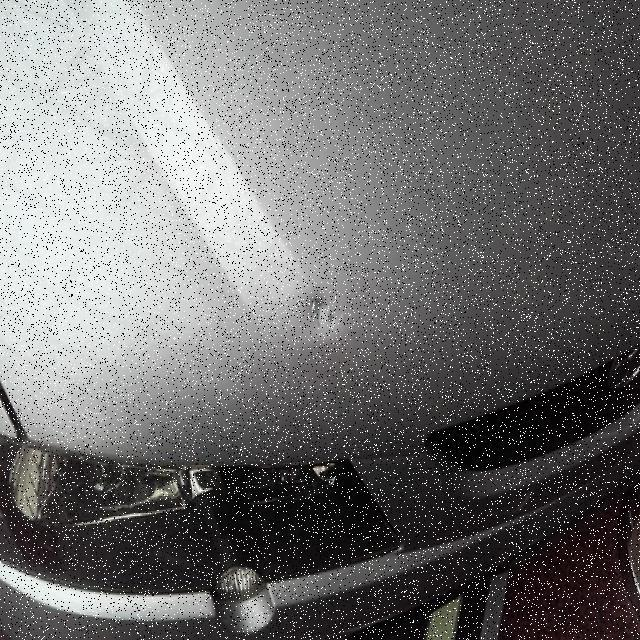bonnet-dent: (112, 3, 586, 558)
